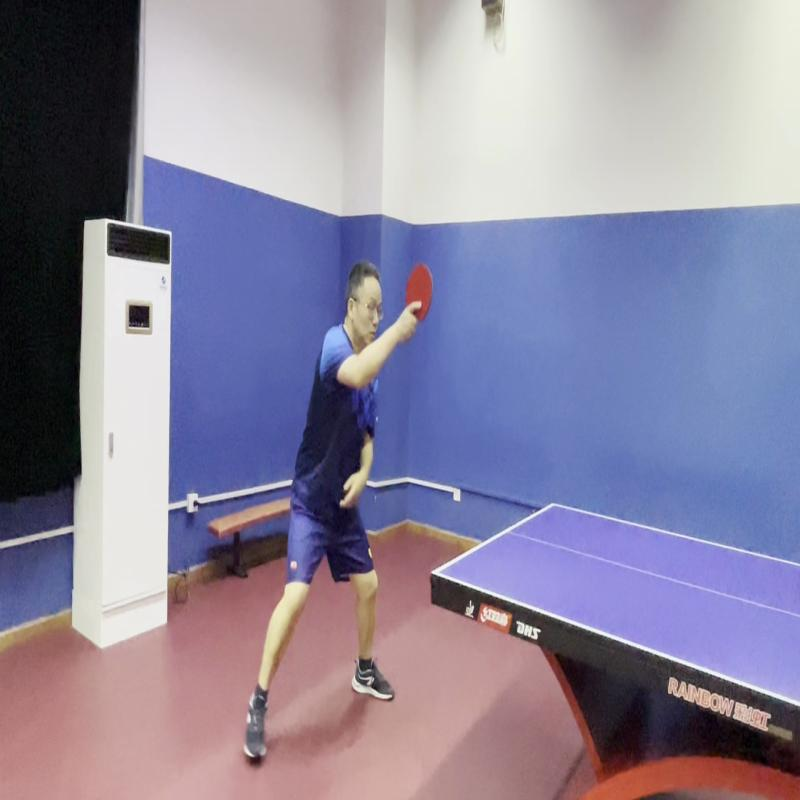bats: (403, 258, 439, 326)
